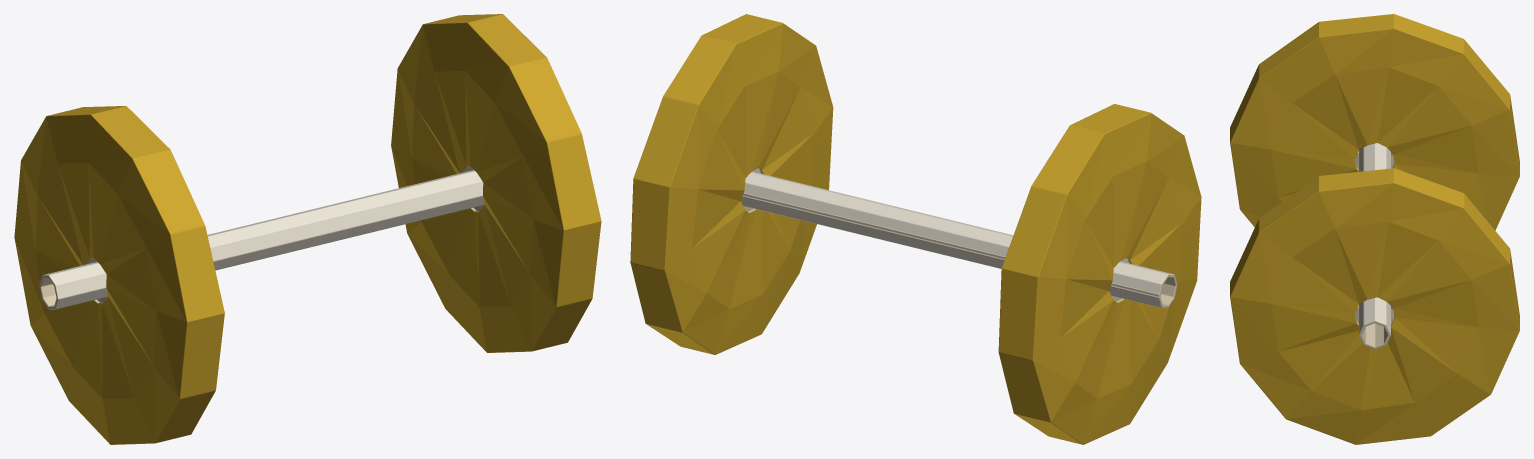
Rendered from achievement-volume.glb.
The picture shows the model from 3 angles, left to right: view 1: azimuth 30°, elevation 25°; view 2: azimuth 150°, elevation 25°; view 3: azimuth 270°, elevation 25°; orthographic projection. The views are drawn at different scales.
Visible parts, largest first — view 1: achievement-volume; view 2: achievement-volume; view 3: achievement-volume.
Boxes of the visible parts, left/top/right/bottom form: achievement-volume: left=14, top=14, right=601, bottom=444; achievement-volume: left=630, top=14, right=1201, bottom=444; achievement-volume: left=1230, top=14, right=1519, bottom=444.
Bounding box in the file's own units: 2.28 × 1.32 × 1.32.
